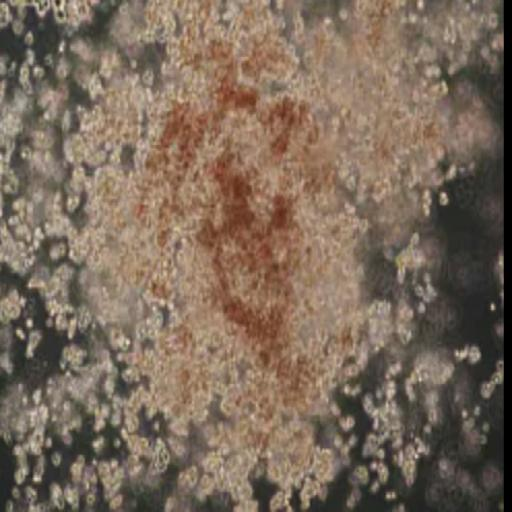BFU-E: (69, 0, 468, 491)
